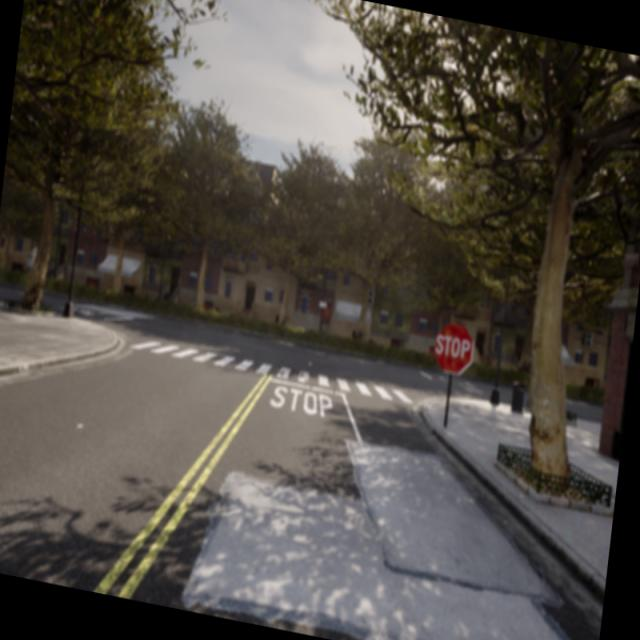stop sign: (430, 319, 476, 378), (434, 333, 472, 360)
